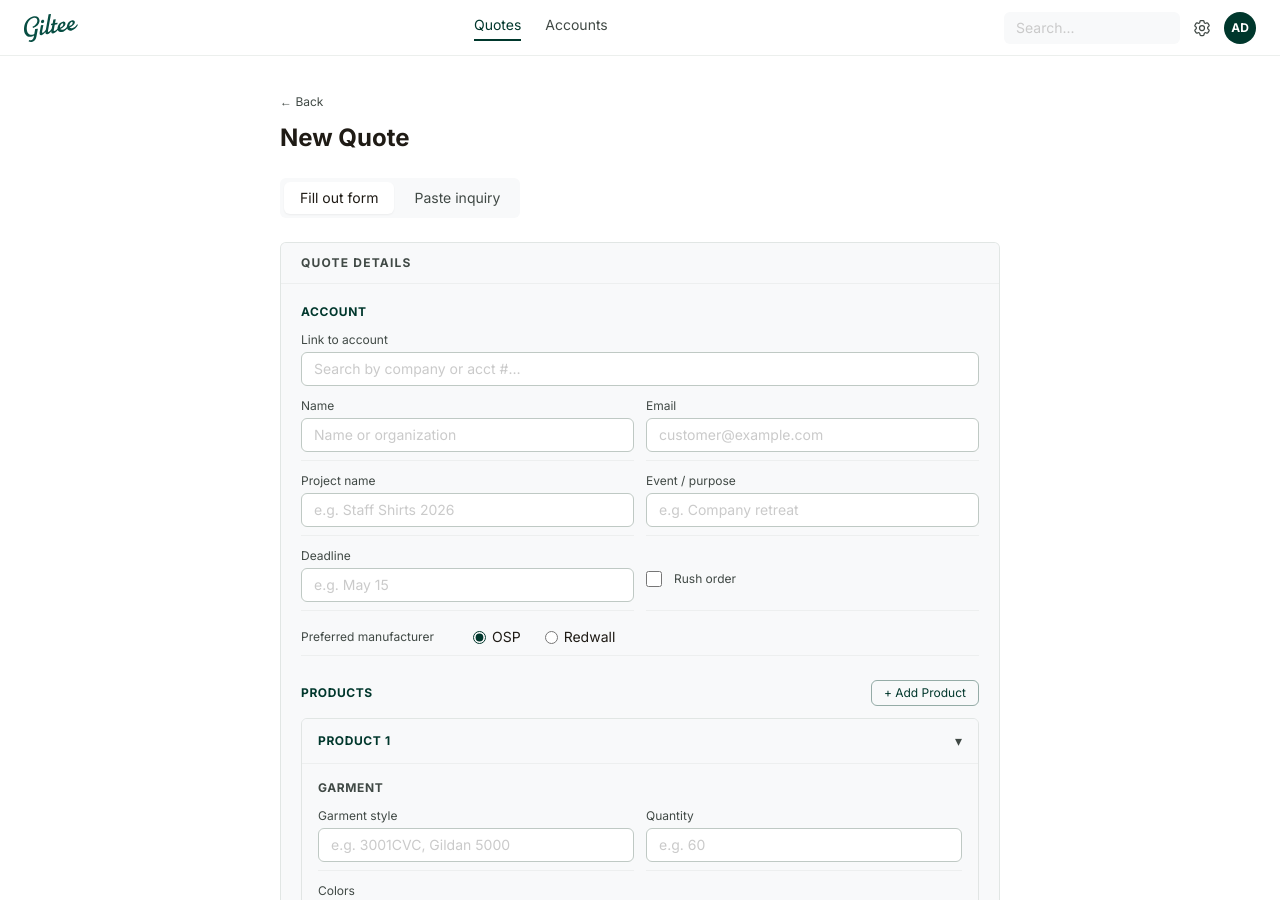
CreateQuote › renders the raw input textarea
Click the button "Paste inquiry": [458, 198] box [398,182,516,214]
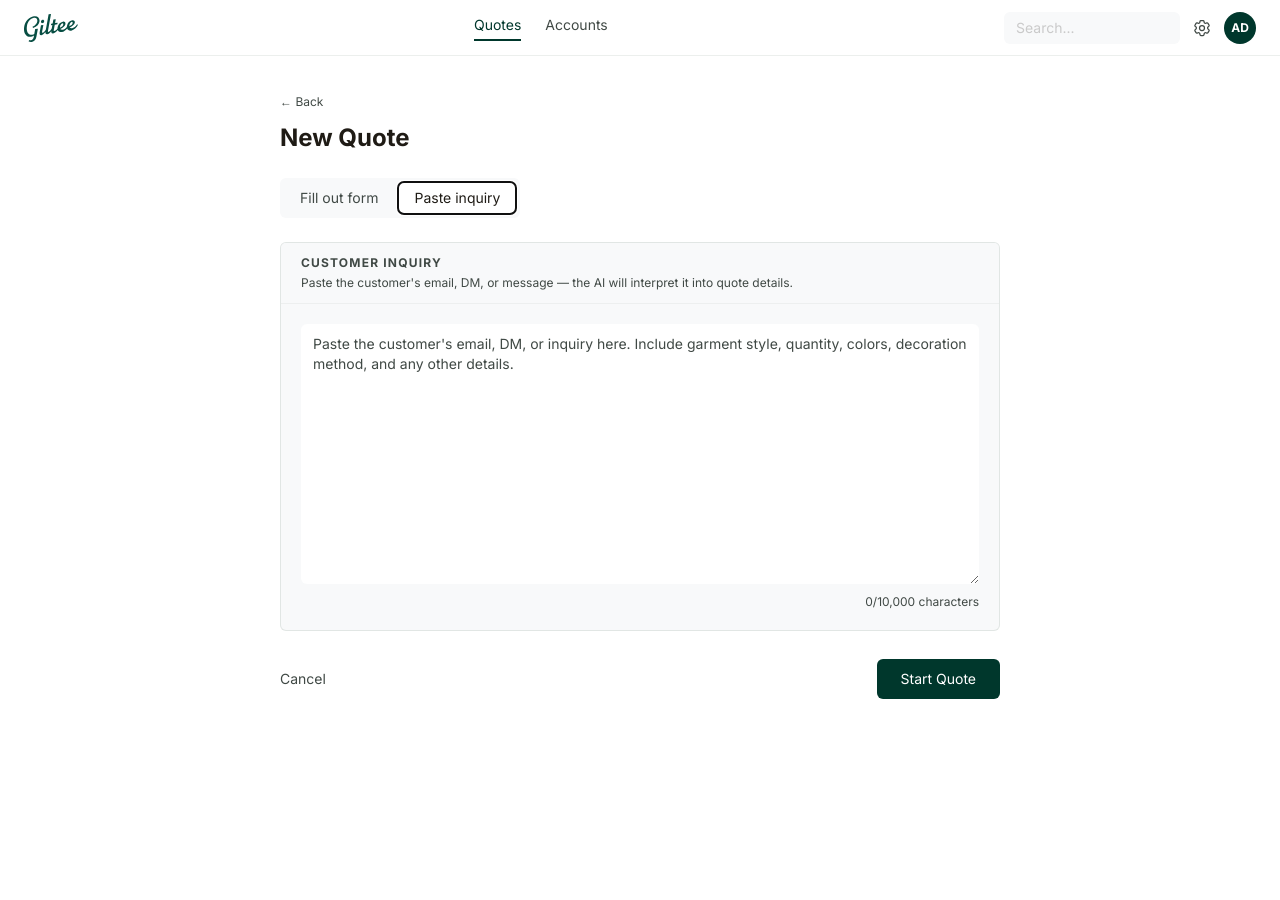
Expected: the text box with placeholder "Paste the customer" is shown, [301,324,979,584]
